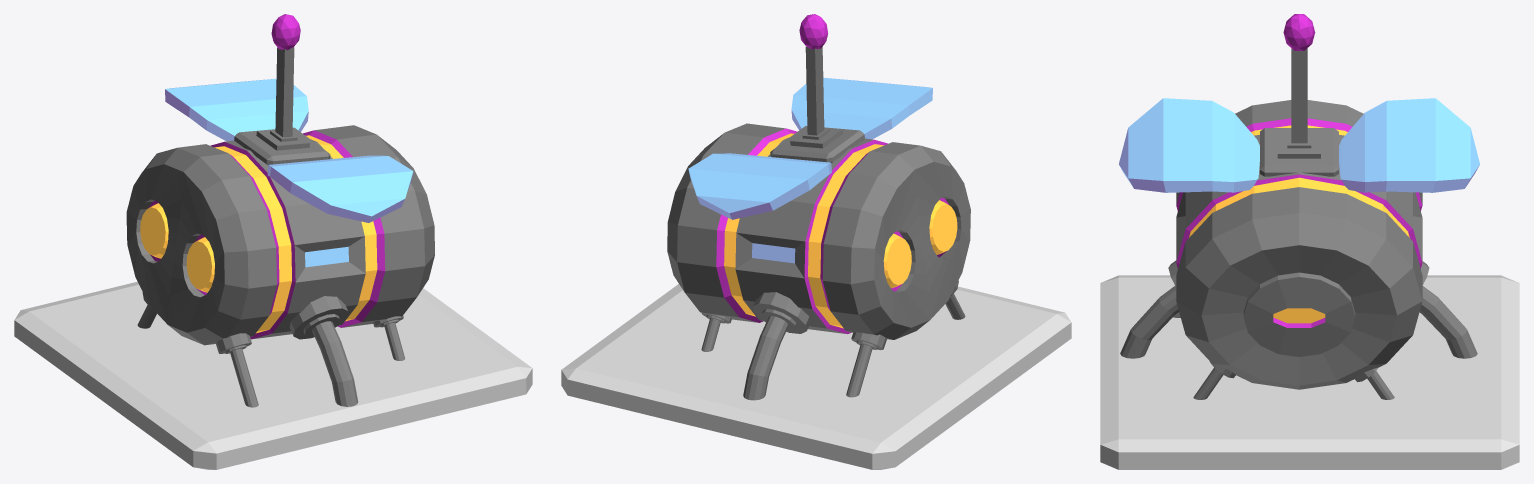
Rendered from hunny.fbx.
3 renders of one model, left to right at view 1: azimuth 30°, elevation 25°; view 2: azimuth 150°, elevation 25°; view 3: azimuth 270°, elevation 25°, orthographic. The views are drawn at different scales.
Parts seen in each view (by area): view 1: Hunny, Base; view 2: Hunny, Base; view 3: Hunny, Base.
Boxes of the visible parts, bbox=[...] form: Hunny: bbox=[126, 14, 434, 407]; Base: bbox=[14, 281, 532, 469]; Hunny: bbox=[667, 14, 970, 400]; Base: bbox=[561, 284, 1071, 469]; Hunny: bbox=[1119, 14, 1479, 399]; Base: bbox=[1100, 275, 1519, 469].
Bounding box in the file's own units: 200 × 199 × 200.
